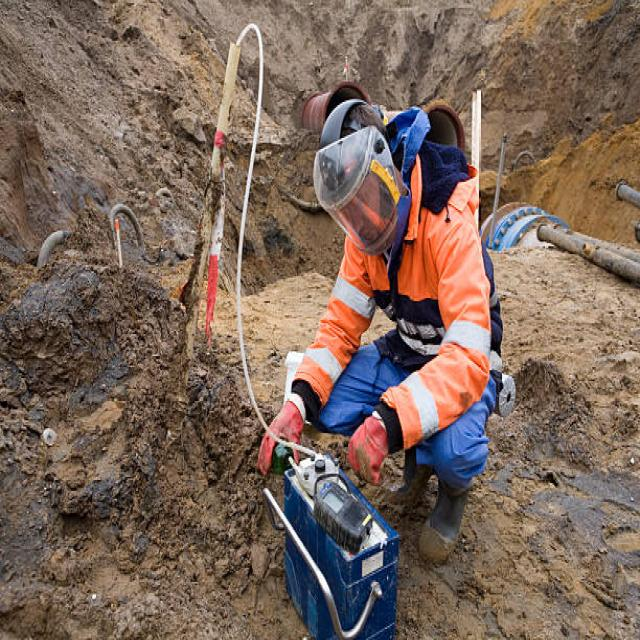gloves: (260, 397, 306, 477), (345, 414, 393, 485)
